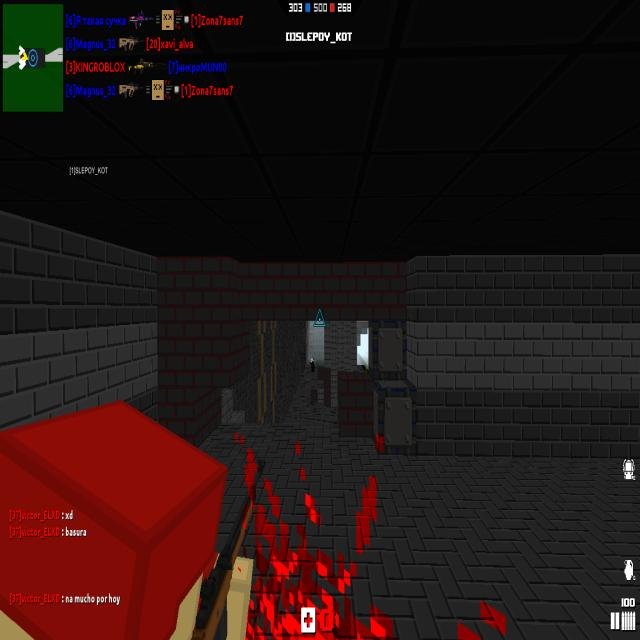enemy: (310, 357, 315, 374)
